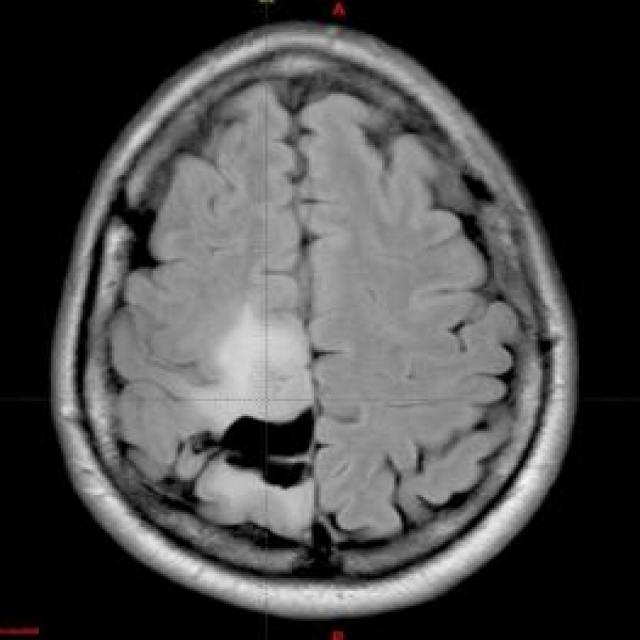tumor: (188, 306, 358, 547)
